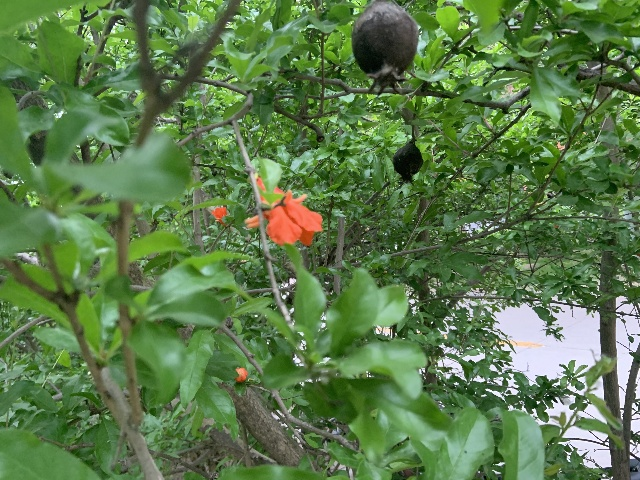bud: (234, 367, 247, 381)
flower: (243, 179, 323, 246), (211, 206, 228, 225)
